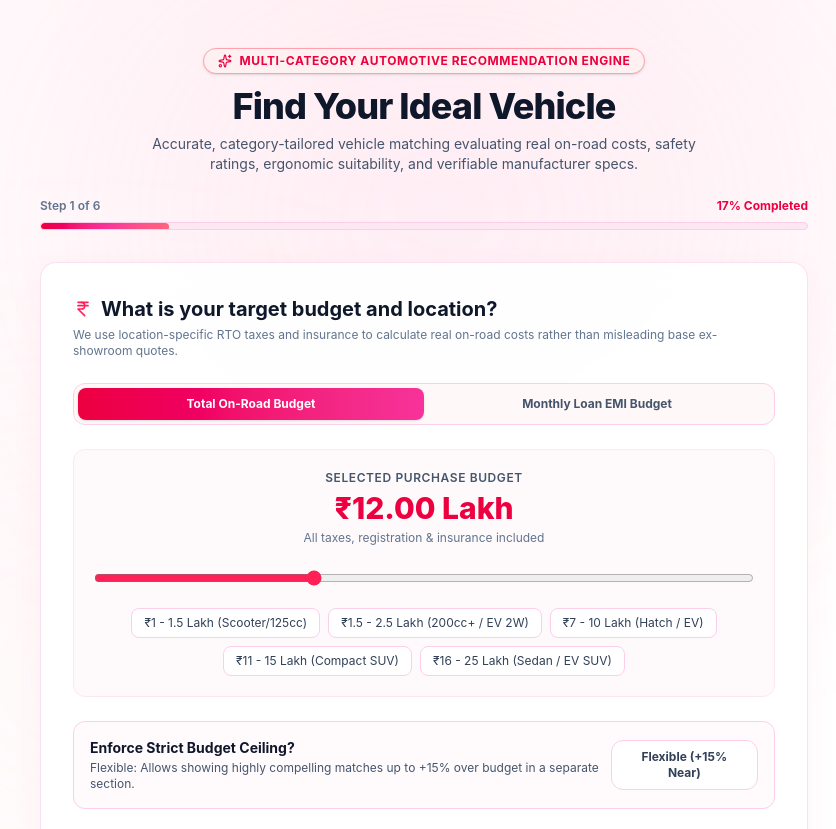
Test: Recommendation Engine Frontend Suite › QuestionnairePage Component › toggles between Total Purchase and Monthly Loan EMI modes
Click the button "Monthly Loan EMI Budget".
click(597, 404)  # box [424,388,770,420]
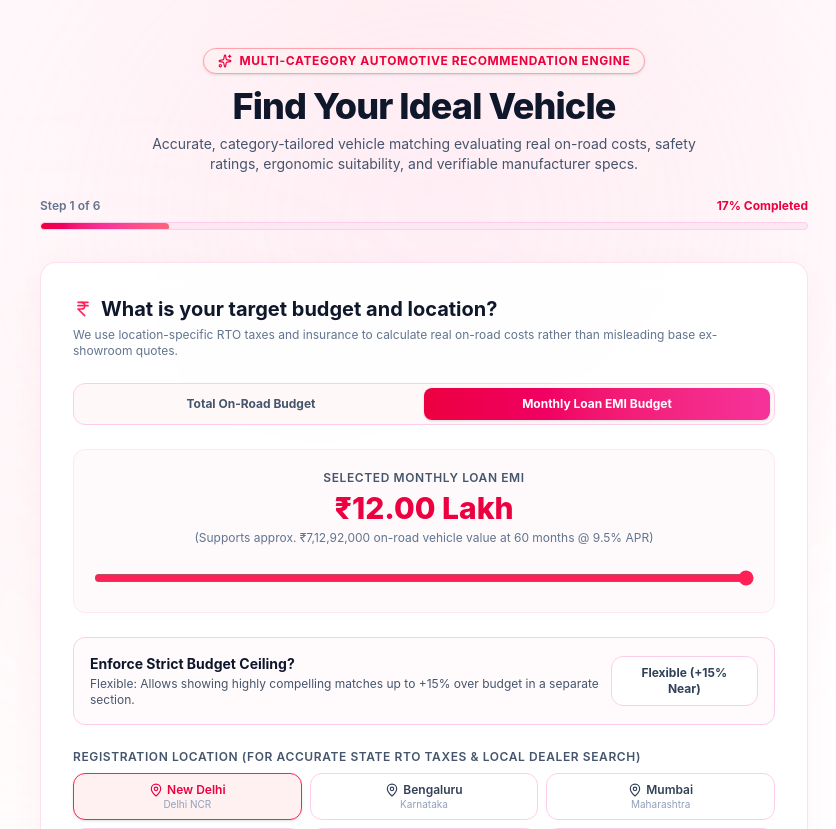
Check: the text "Selected Monthly Loan EMI" is shown, box [323,470,525,485]
